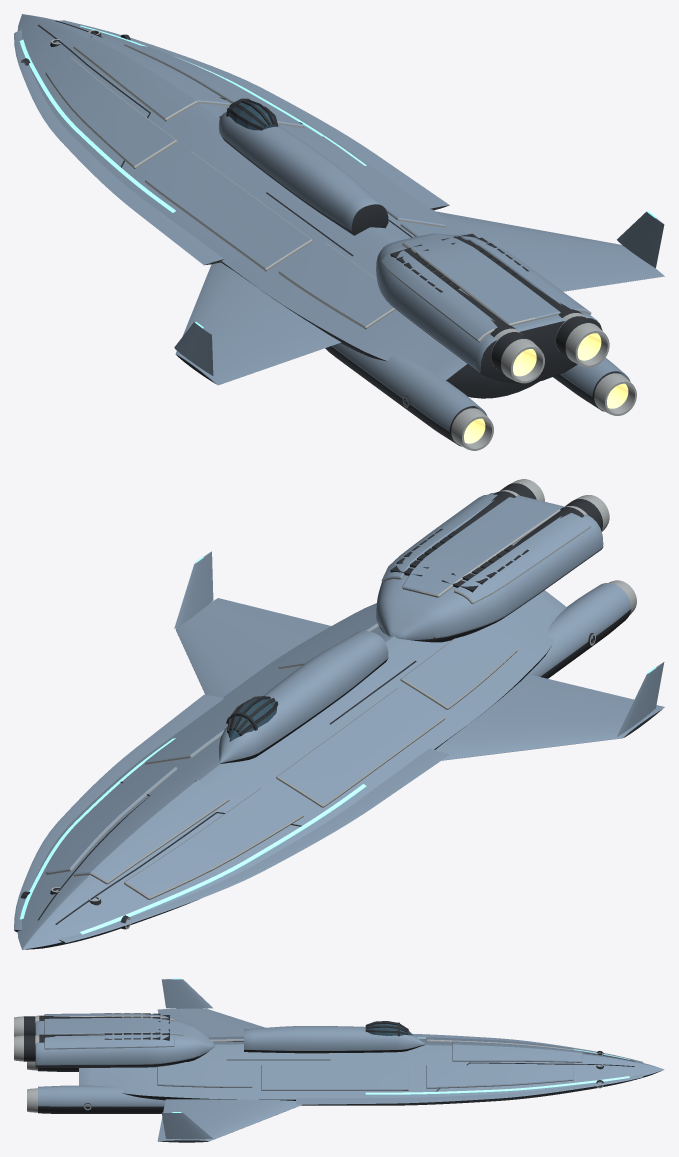
Rendered from condor.glb.
3 views of the same model, one above another, from view 1: azimuth 30°, elevation 25°; view 2: azimuth 150°, elevation 25°; view 3: azimuth 270°, elevation 25° (orthographic). The views are drawn at different scales.
Parts seen in each view (by area): view 1: Hull_Condor; view 2: Hull_Condor; view 3: Hull_Condor.
Boxes of the visible parts, x1,y1,x2,y2 form: Hull_Condor: (14,14,664,450); Hull_Condor: (14,479,664,949); Hull_Condor: (14,978,664,1142).
Bounding box in the file's own units: 73.02 × 17.98 × 150.
